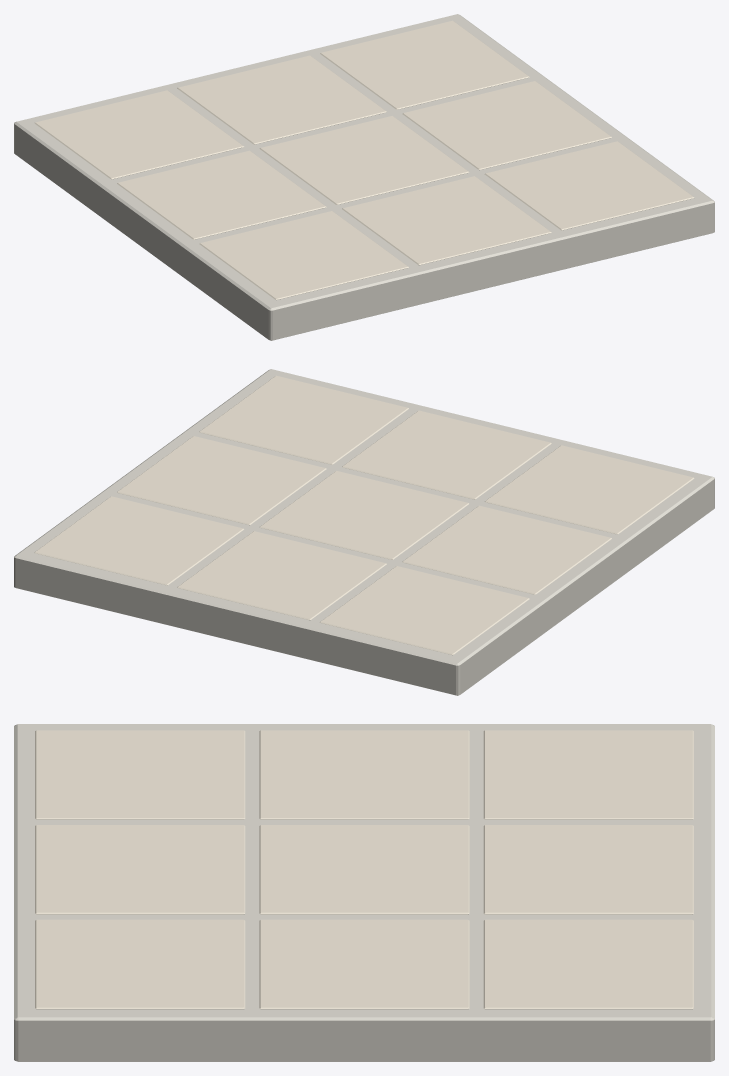
The model's file is roman-bathhouse-and-palaestra-bathhouse-paving-plate-c5bf37e1__37852.glb.
3 renders of one model, top to bottom at view 1: azimuth 30°, elevation 25°; view 2: azimuth 150°, elevation 25°; view 3: azimuth 270°, elevation 25°, orthographic. The views are drawn at different scales.
Visible parts, largest first — view 1: bathhouse-paving-plate; view 2: bathhouse-paving-plate; view 3: bathhouse-paving-plate.
Boxes of the visible parts, x1,y1,x2,y2 form: bathhouse-paving-plate: (14, 14, 714, 340); bathhouse-paving-plate: (14, 369, 714, 695); bathhouse-paving-plate: (14, 724, 714, 1061).
Bounding box in the file's own units: 2 × 0.1459 × 2.
